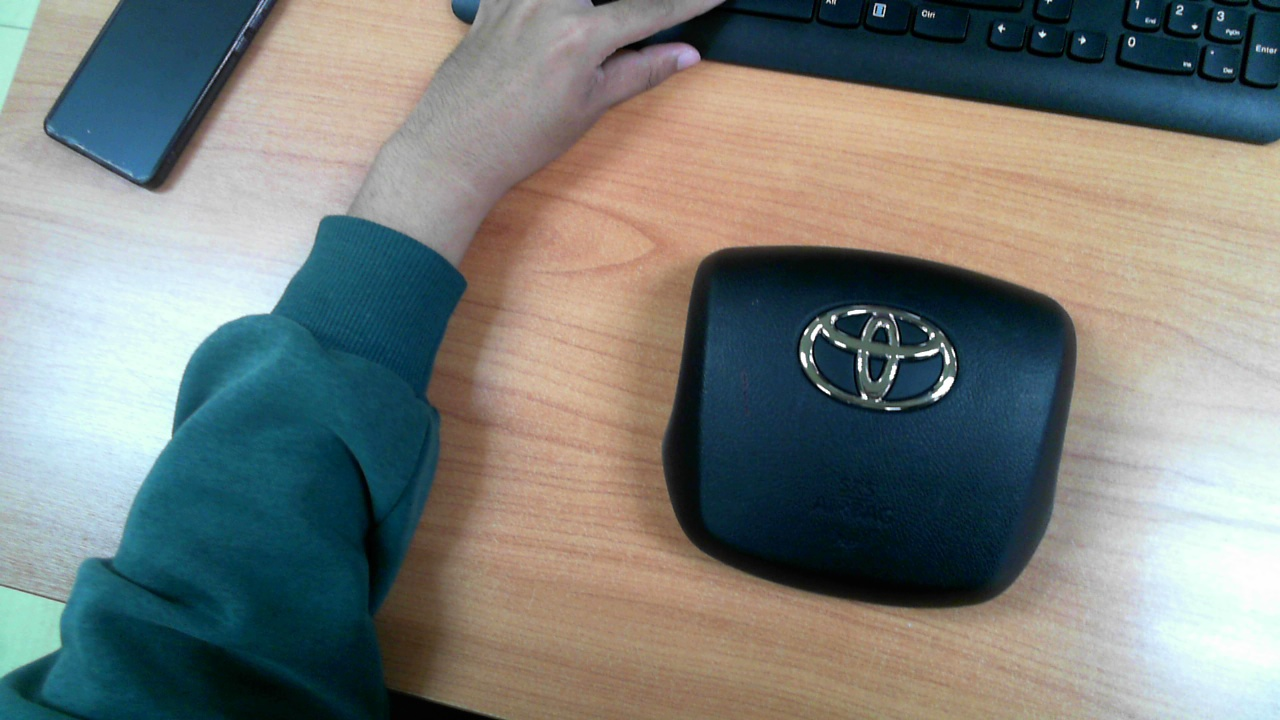Airbag: (661, 245, 1077, 609)
Toyota: (798, 305, 957, 412)
